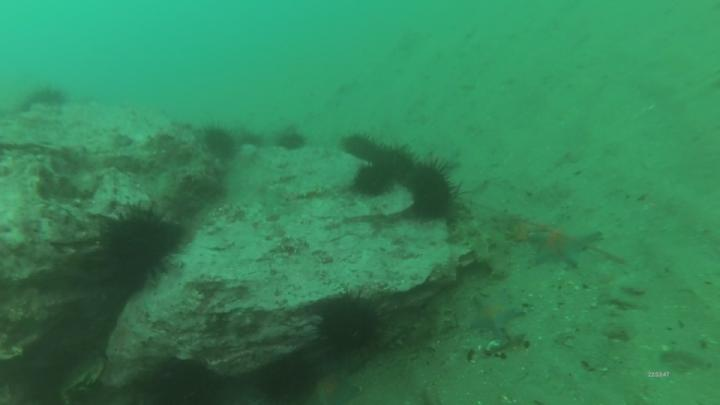echinus: (108, 215, 174, 279), (323, 300, 375, 349), (258, 358, 314, 401), (409, 171, 458, 217), (159, 361, 215, 399), (352, 164, 390, 197), (378, 152, 419, 181), (206, 127, 239, 157), (344, 137, 384, 159), (26, 91, 66, 109), (278, 133, 303, 152)
holothurian: (401, 303, 449, 351), (456, 215, 490, 266)
scallop: (485, 338, 507, 354)
starfish: (534, 230, 594, 267), (473, 295, 523, 335)
